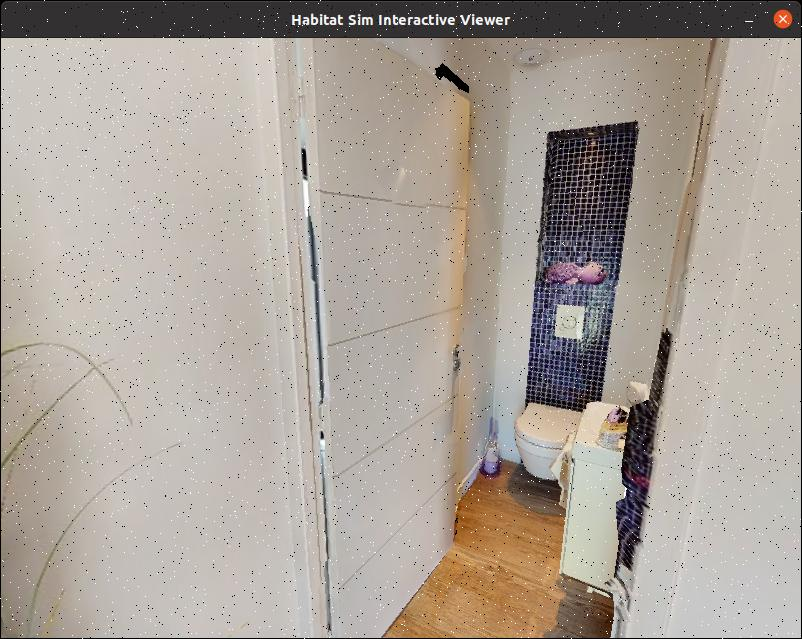toilet: (501, 389, 590, 487)
